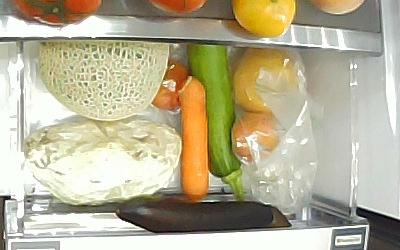cabbage: (24, 118, 181, 206)
carrot: (179, 75, 212, 200)
eggplant: (116, 196, 293, 233)
melon: (36, 41, 169, 122)
pear_vinyl: (234, 48, 299, 112)
prune_vinyl: (232, 112, 282, 163)
tomato_vinyl: (150, 61, 190, 113)
zucchini: (186, 44, 243, 198)
